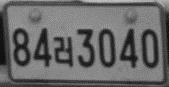0: (140, 28, 159, 68), (97, 27, 115, 68)
3: (76, 28, 95, 67)
4: (118, 27, 139, 68), (33, 27, 52, 67)
8: (11, 27, 31, 66)
러: (52, 35, 73, 67)
